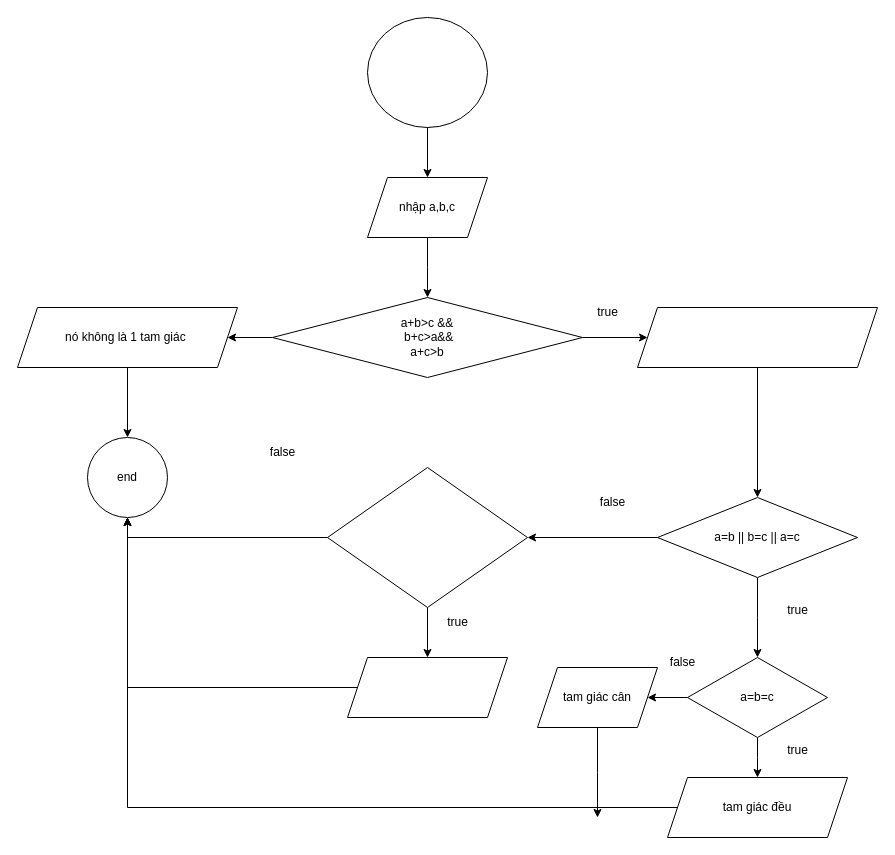
Some shapes in this 895 by 855 pixel diagram are drawn without their labels. The shapes that lost their labels are listed below. From the top down, each one's centre as x and y in pixels, then its label:
At [427,72]: "begin".
At [757,337]: "nó là 1 tam giác".
At [427,537]: "a^2=b^2+c^2 || b^2=a^2+c^2 || c^2=a^2+b^2".
At [427,687]: "nó là 1 tam giác vuông".
